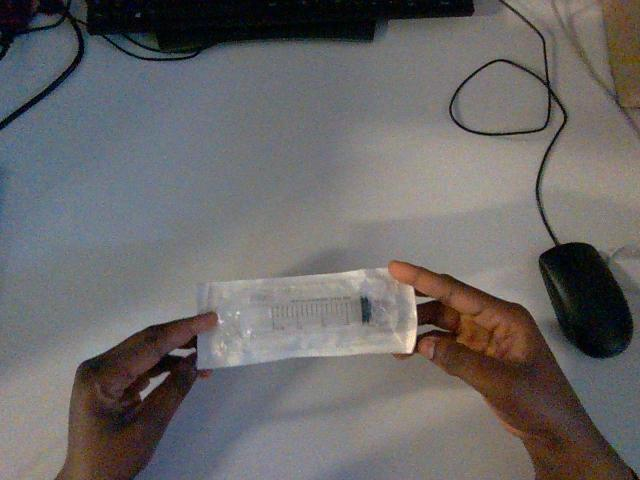syringe: (197, 268, 416, 368)
